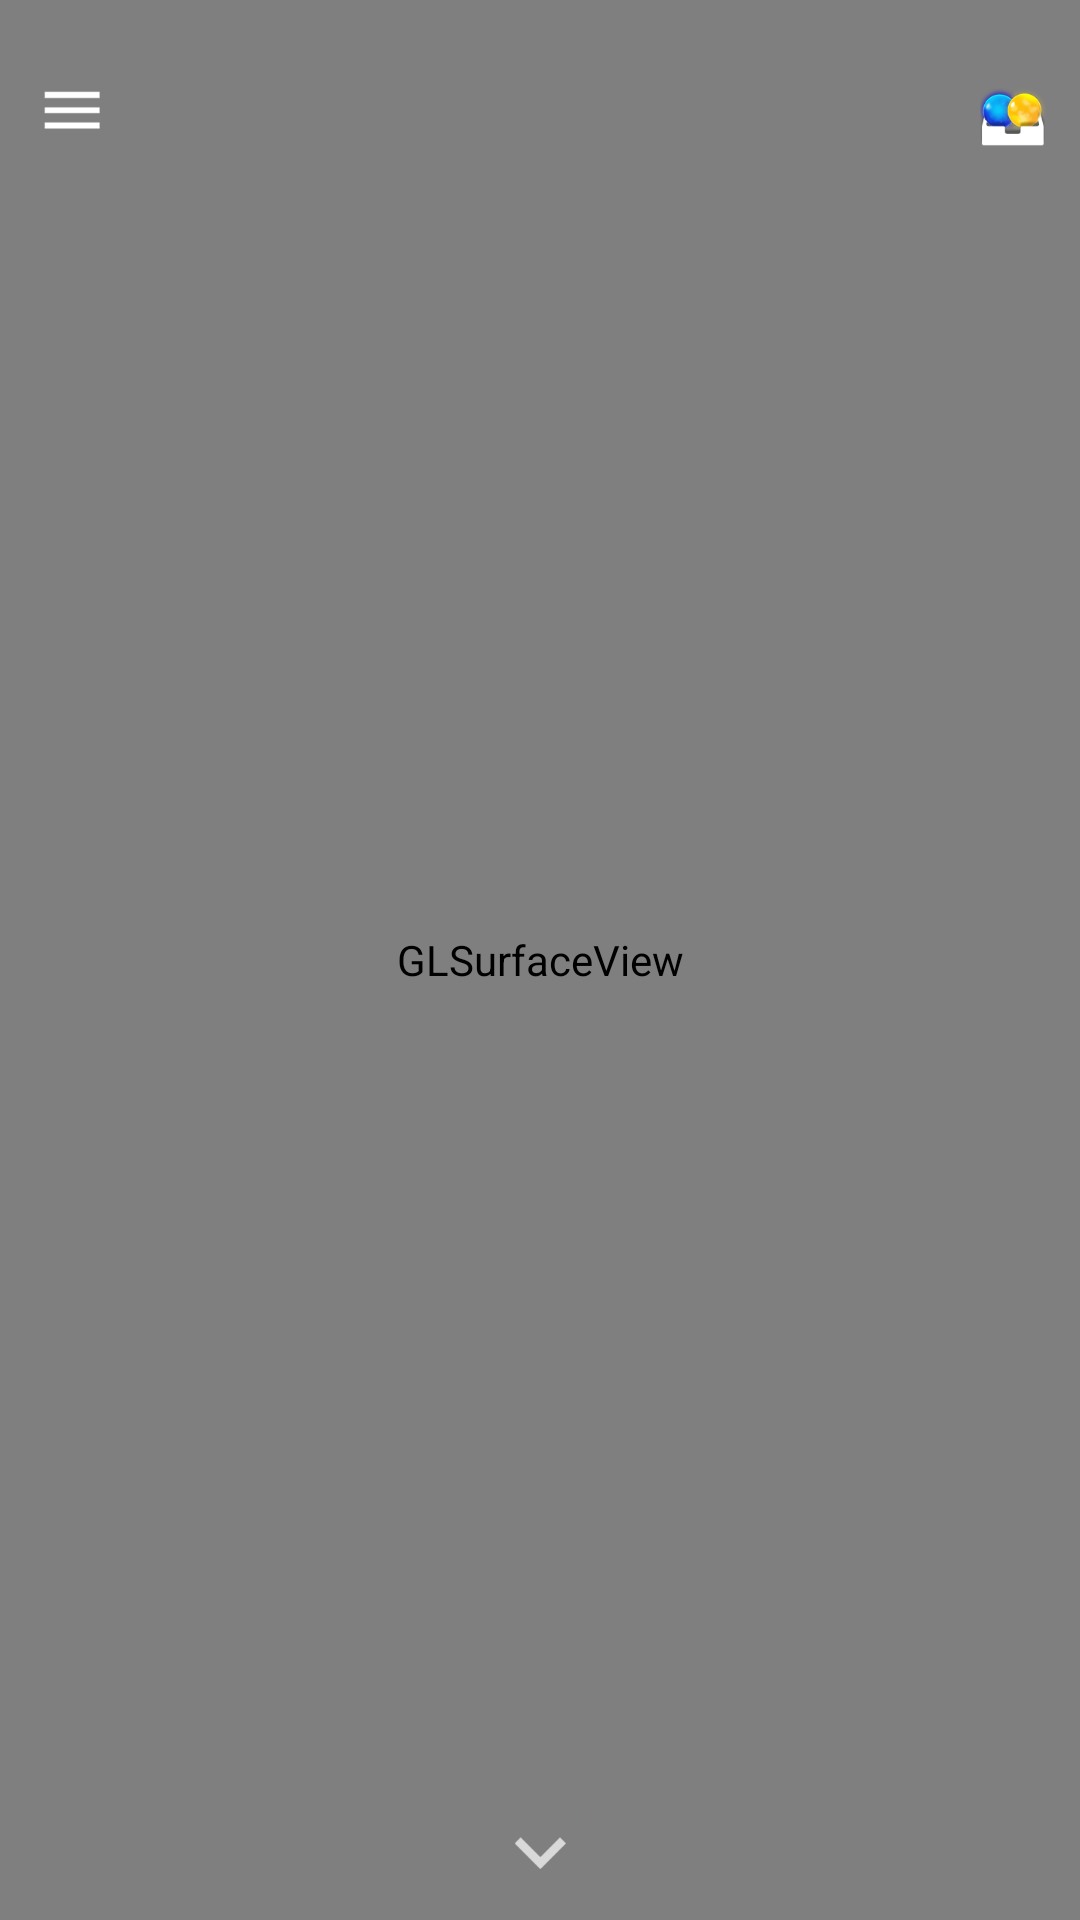

Point at icon controls on the screen. Image size 1080×1920, points as (x=x, y=y).
arrow down: (x=540, y=1853)
menu: (x=72, y=110)
